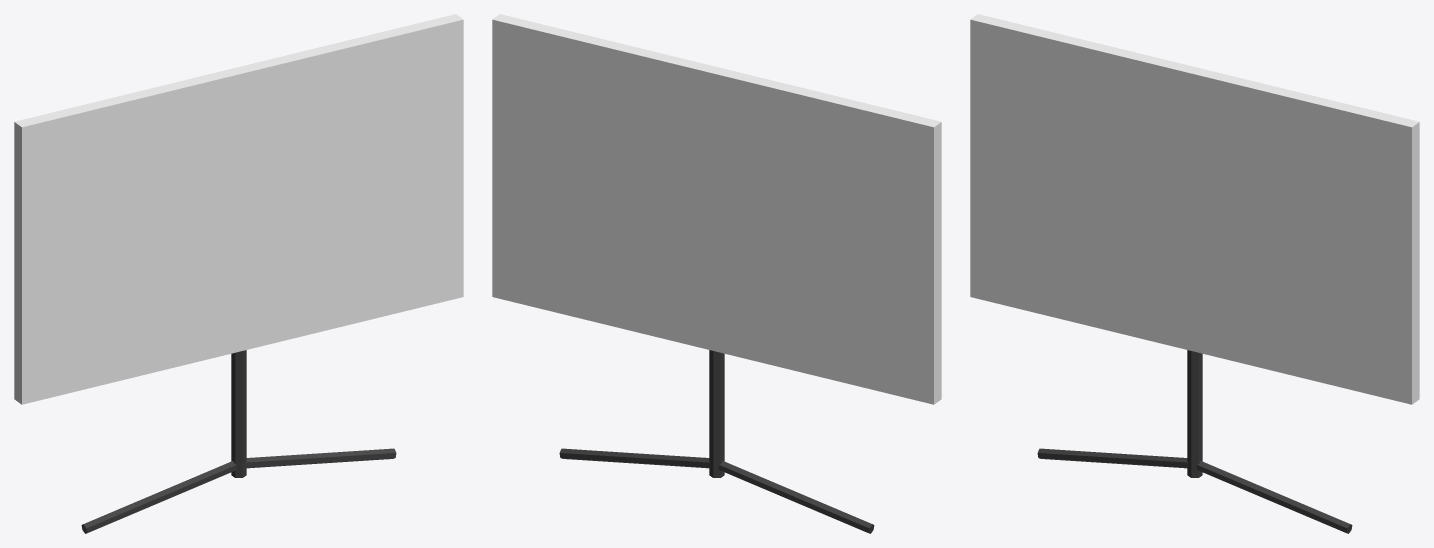
The picture shows the model from 3 angles, left to right: view 1: azimuth 30°, elevation 25°; view 2: azimuth 150°, elevation 25°; view 3: azimuth 330°, elevation 25°; orthographic projection.
Visible parts, largest first — view 1: Screen, Stand, Foot, Foot.001; view 2: Screen, Stand, Foot, Foot.001; view 3: Screen, Stand, Foot.001, Foot.
Boxes of the visible parts, left/top/right/bottom form: Screen: left=14, top=14, right=463, bottom=404; Stand: left=231, top=350, right=246, bottom=477; Foot: left=81, top=461, right=237, bottom=533; Foot.001: left=245, top=448, right=396, bottom=468; Screen: left=492, top=14, right=941, bottom=404; Stand: left=709, top=350, right=724, bottom=477; Foot: left=718, top=461, right=874, bottom=533; Foot.001: left=559, top=448, right=710, bottom=468; Screen: left=970, top=14, right=1419, bottom=404; Stand: left=1187, top=350, right=1202, bottom=477; Foot.001: left=1196, top=461, right=1352, bottom=533; Foot: left=1037, top=448, right=1188, bottom=468.
Size of the model in its own units: 2 by 1.84 by 0.06.
Materials: 1 (1 with a texture image).
